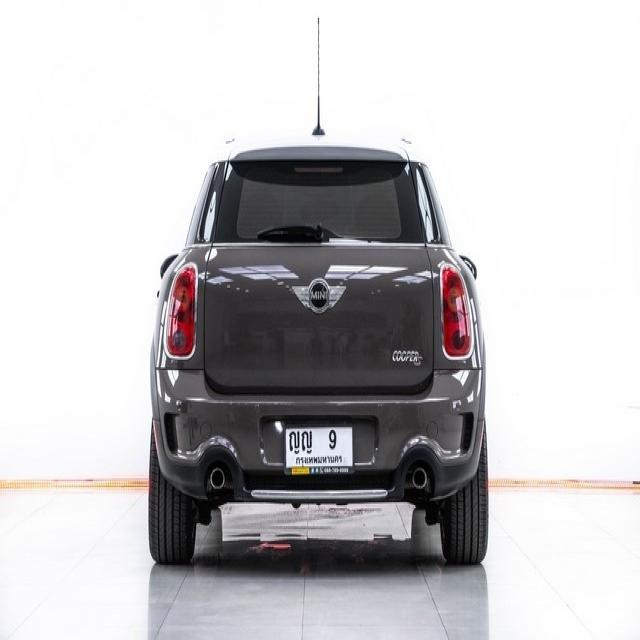license_plate: (280, 419, 356, 482)
